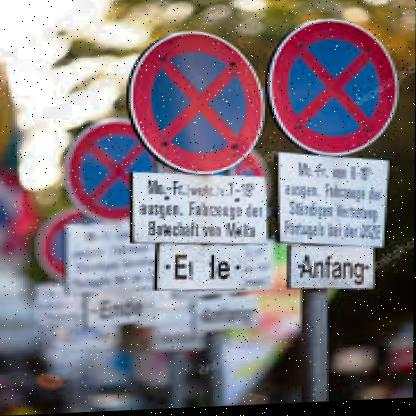No stopping: (124, 24, 261, 176), (275, 17, 394, 159), (52, 117, 163, 221)
